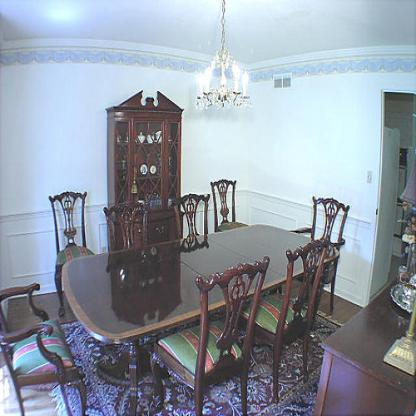chair: (146, 252, 272, 415), (234, 235, 330, 406), (0, 278, 90, 415), (286, 193, 352, 313), (44, 186, 97, 320), (100, 200, 152, 255), (208, 176, 250, 236), (168, 190, 212, 240)
diningtable: (58, 221, 342, 415)
